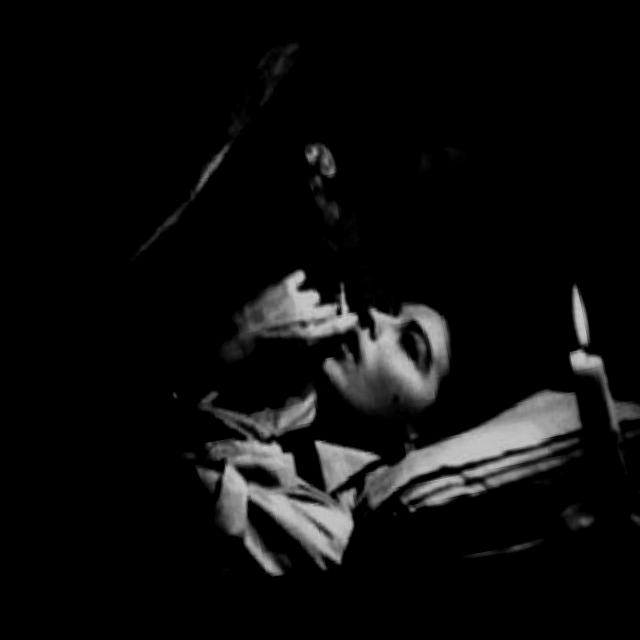cigarette: (330, 280, 356, 325)
